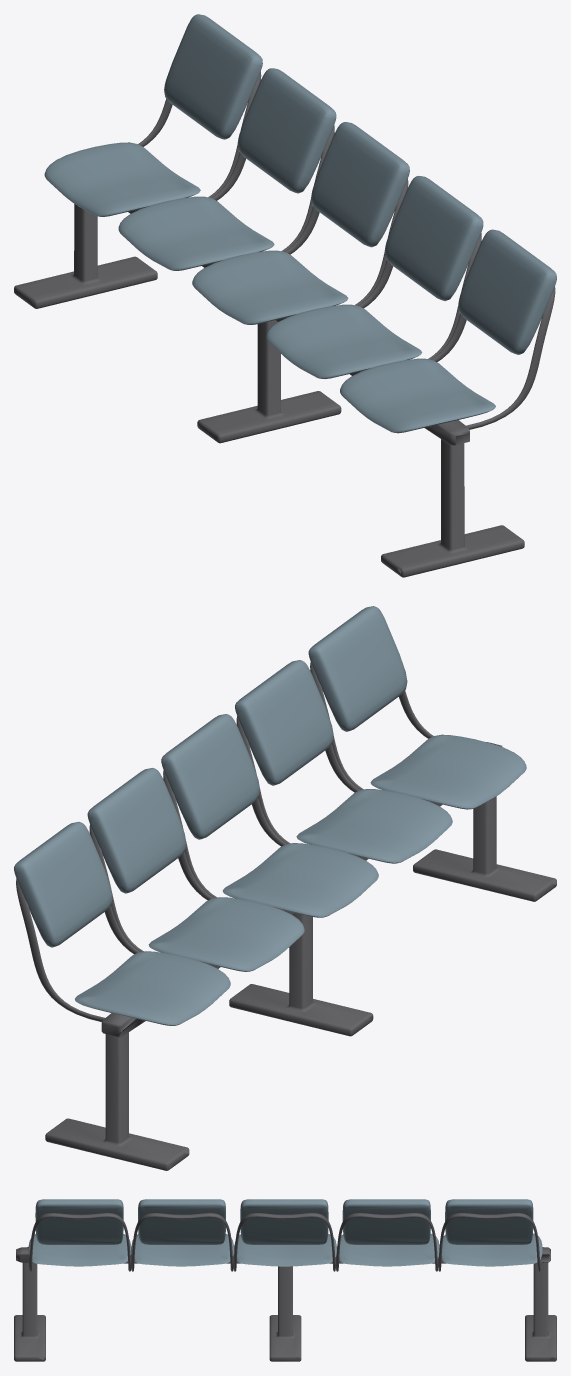
The model's file is WaitingBeamSeating.fbx.
The picture shows the model from 3 angles, top to bottom: view 1: azimuth 30°, elevation 25°; view 2: azimuth 150°, elevation 25°; view 3: azimuth 270°, elevation 25°; orthographic projection. The views are drawn at different scales.
Visible parts, largest first — view 1: WaitingBeamSeating; view 2: WaitingBeamSeating; view 3: WaitingBeamSeating.
Boxes of the visible parts, left/top/right/bottom form: WaitingBeamSeating: left=14, top=14, right=556, bottom=577; WaitingBeamSeating: left=14, top=606, right=556, bottom=1170; WaitingBeamSeating: left=14, top=1199, right=556, bottom=1361.
Size of the model in its own units: 0.5842 by 0.7947 by 2.21.
